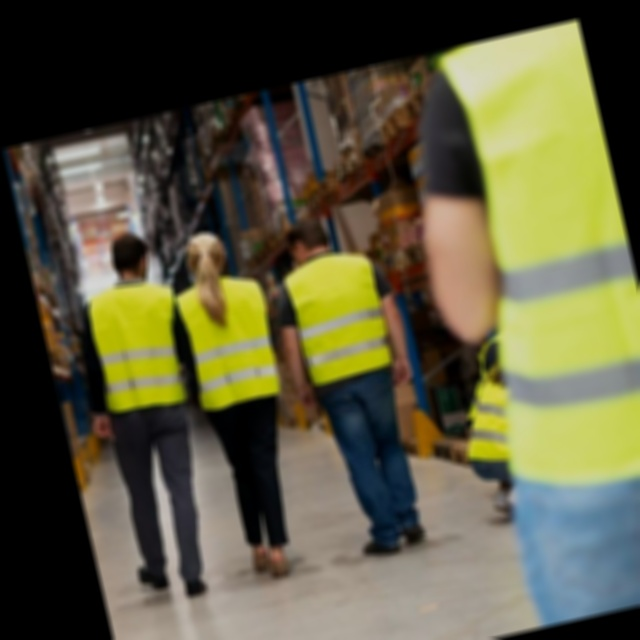Con_Chaleco: (168, 265, 291, 417), (276, 244, 397, 389), (80, 273, 198, 417)
